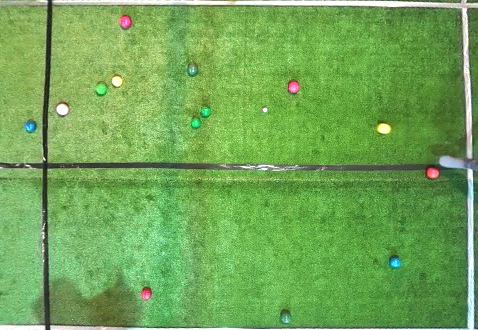blue: (389, 257, 402, 269), (25, 122, 37, 132)
green: (96, 83, 107, 95), (281, 312, 291, 323), (191, 118, 201, 129), (188, 65, 198, 76), (201, 107, 211, 117)
red: (56, 103, 69, 116), (426, 167, 440, 179), (120, 15, 132, 29), (141, 288, 152, 301), (288, 81, 299, 94)
vline: (1, 0, 53, 329), (459, 0, 477, 161), (465, 169, 477, 330)
white: (263, 108, 267, 112)
yellow: (377, 123, 392, 135), (111, 76, 123, 87)
